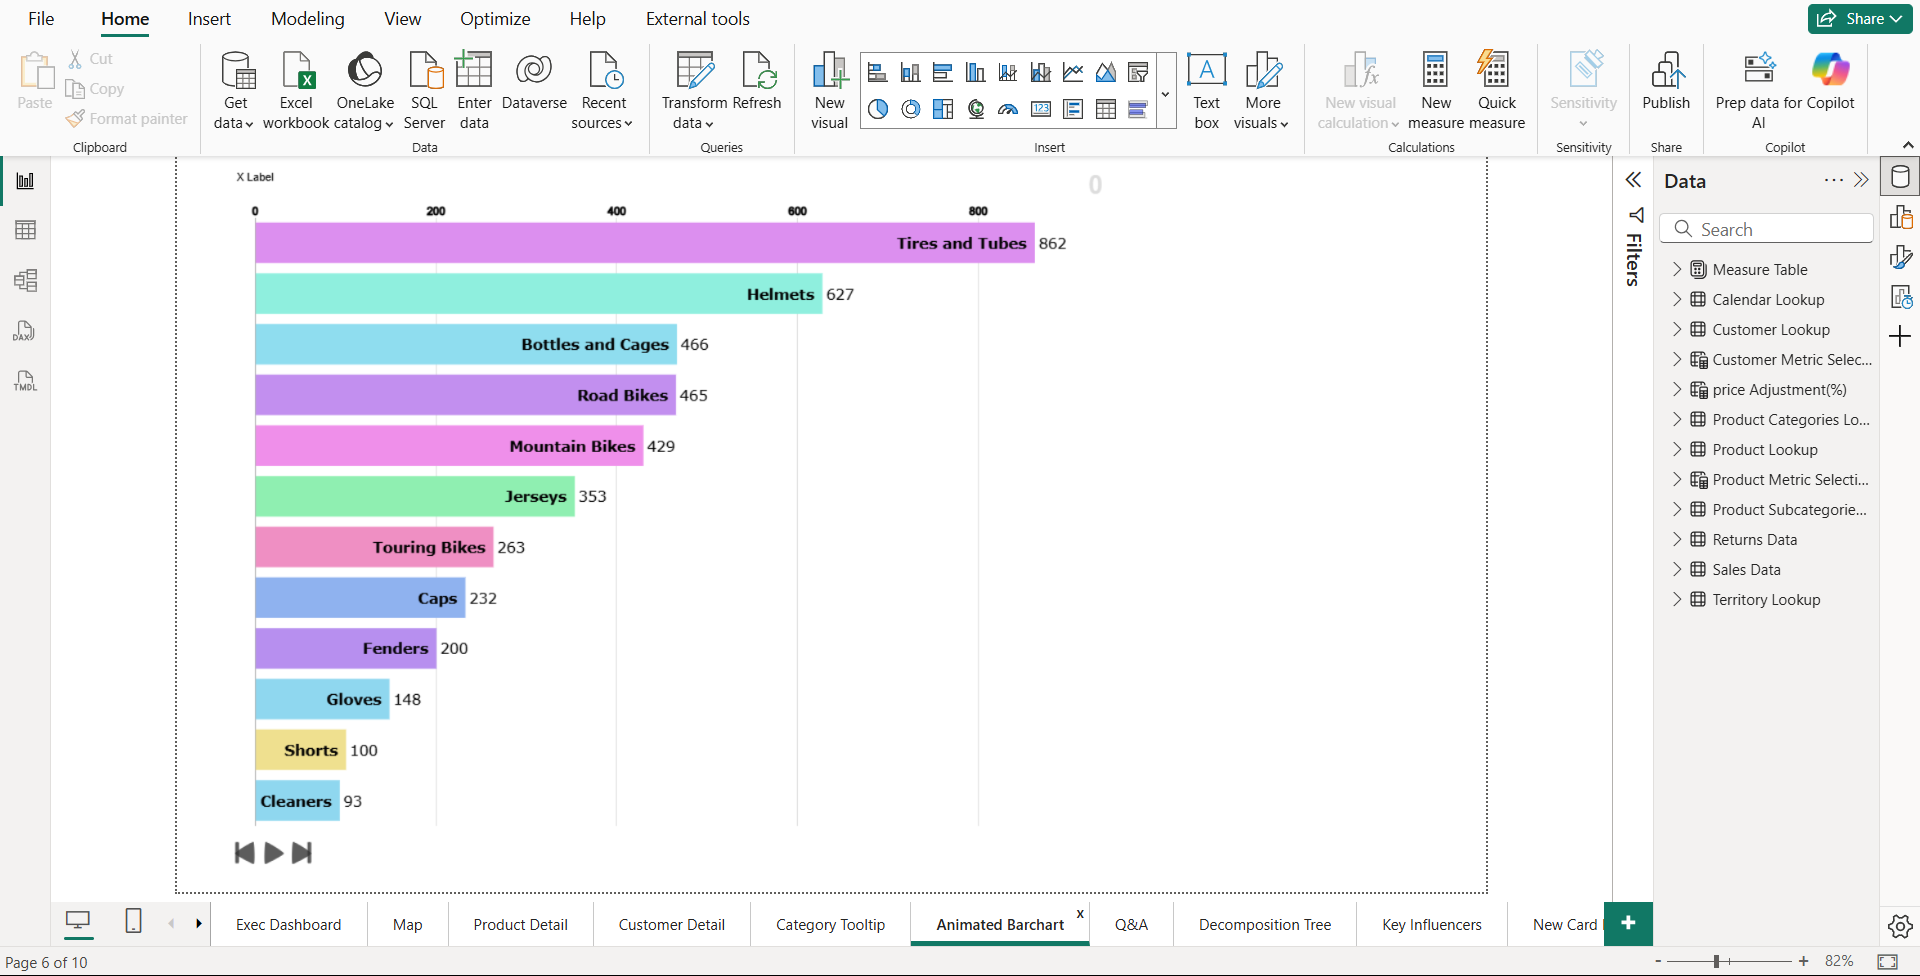

This screenshot's page, from the dashboard's own definition file:
{"tool":"powerbi","page":{"name":"Animated Barchart","canvas":[1280,720],"ordinal":5},"visuals":[{"type":"RaceBarChart828E7F9A76D539488CE6C92657D234CF","fields":{"barRaceChart_chartItems":["Product Subcategories Lookup.SubcategoryName"],"barRaceChart_chartValues":["Measure Table.Total Orders"],"barRaceChart_chartPeriods":["Calendar Lookup.Start of Month"]},"box":[9.8,0,929,710.2],"z":0}]}

Visuals, with their boxes on the page's 1280x720 design canvas (x1, y1, x2, y2). These are canvas units, not pixel positions in the 1920x976 screenshot, which may show the page scaled, cropped or inside an application window:
RaceBarChart828E7F9A76D539488CE6C92657D234CF - Product Subcategories Lookup.SubcategoryName x Measure Table.Total Orders: box=[10, 0, 939, 710]
